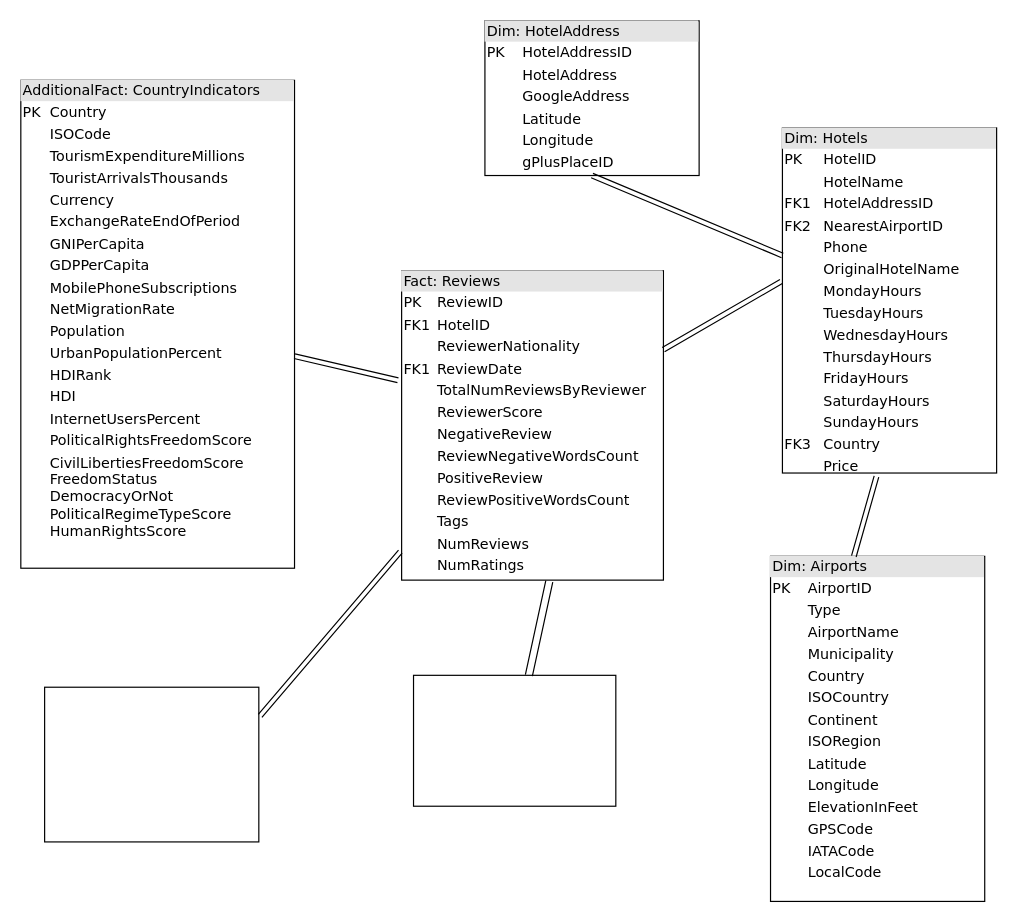
Image size: 1017x922. Some labels were removed from this diagram. The shapes that lost their labels are listed below. From the top down, each one's centre as x and y in pixels, then its label:
the point at 514,740: Dim: HotelReviewsMetadata PK HotelID NumReviews AverageScore NumRatings
the point at 151,764: Date PK ReviewDate FK1 Day Week Month Year DayOfWeek
